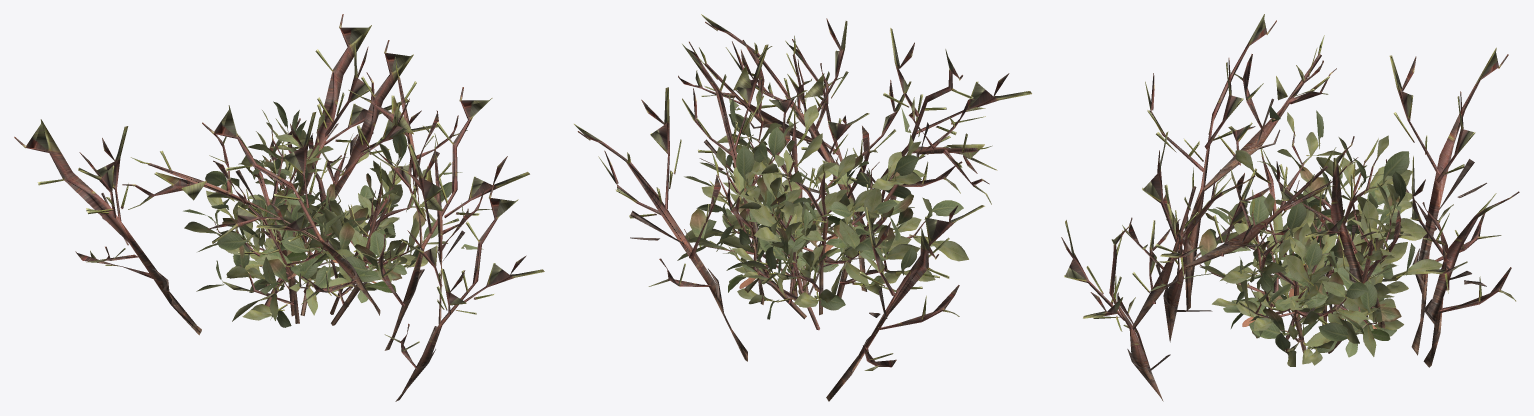
File: Scan_Bush_A.fbx
The picture shows the model from 3 angles, left to right: view 1: azimuth 30°, elevation 25°; view 2: azimuth 150°, elevation 25°; view 3: azimuth 270°, elevation 25°; orthographic projection. The views are drawn at different scales.
Parts seen in each view (by area): view 1: Scan_Bush_A_LOD0; view 2: Scan_Bush_A_LOD0; view 3: Scan_Bush_A_LOD0.
Boxes of the visible parts, <box> form: Scan_Bush_A_LOD0: <box>14,14,544,401</box>; Scan_Bush_A_LOD0: <box>574,14,1031,401</box>; Scan_Bush_A_LOD0: <box>1061,14,1519,401</box>.
Size of what is drawn, in the model's own units: 1.62 by 1.26 by 1.63.
